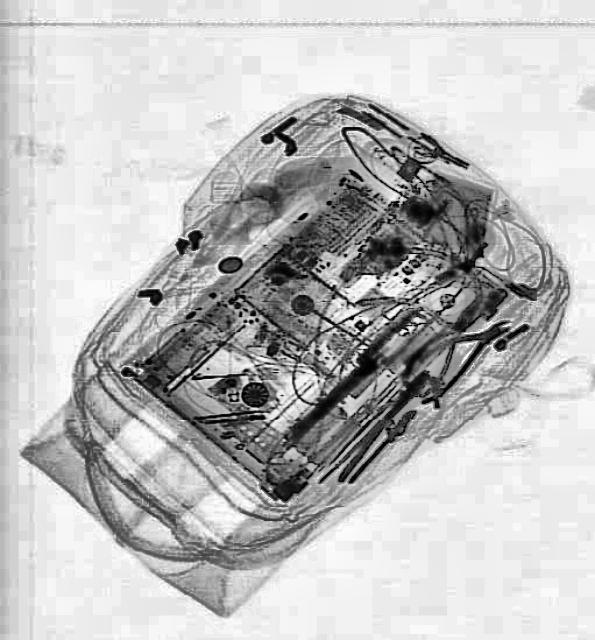Pliers: (393, 298, 523, 409)
